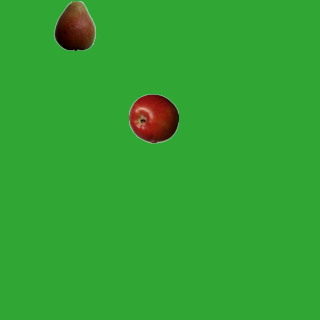Apple Braeburn: (128, 93, 178, 143)
Pear Forelle: (49, 0, 99, 50)
